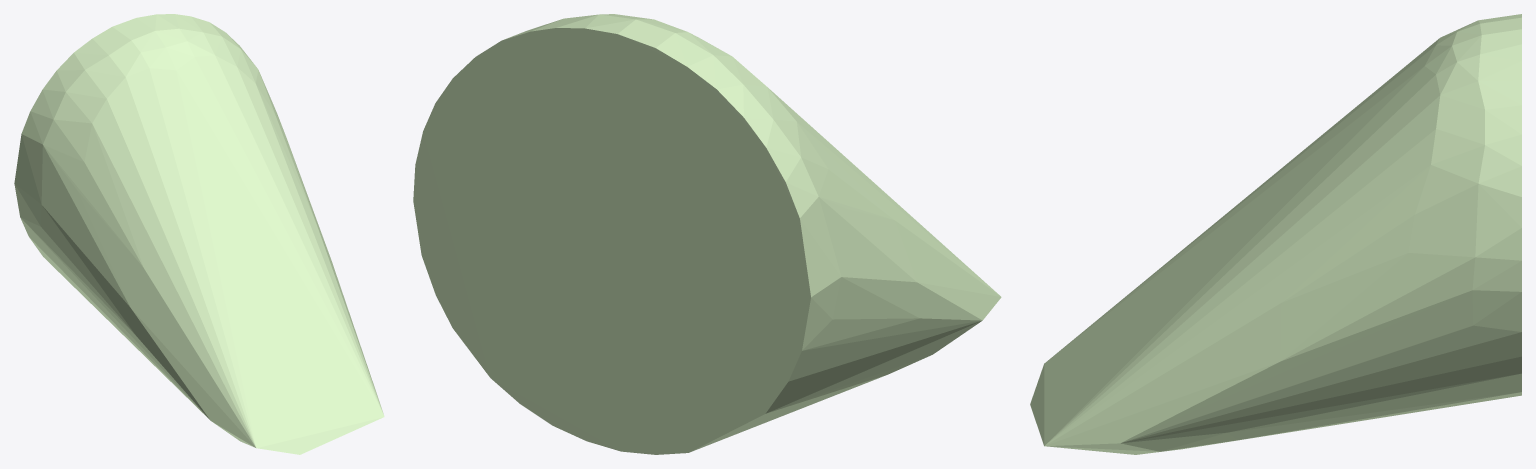
Rendered from iiwa_link2_resp_coll_1.obj.
3 views of the same model, side by side, from view 1: azimuth 30°, elevation 25°; view 2: azimuth 150°, elevation 25°; view 3: azimuth 270°, elevation 25° (orthographic). The views are drawn at different scales.
Parts seen in each view (by area): view 1: node; view 2: node; view 3: node.
Part boxes in pixels (x1,y1,x2,y2): node: [14, 14, 384, 454]; node: [413, 14, 1001, 454]; node: [1030, 14, 1521, 454].
Bounding box in the file's own units: 0.1711 × 0.2013 × 0.2206.
